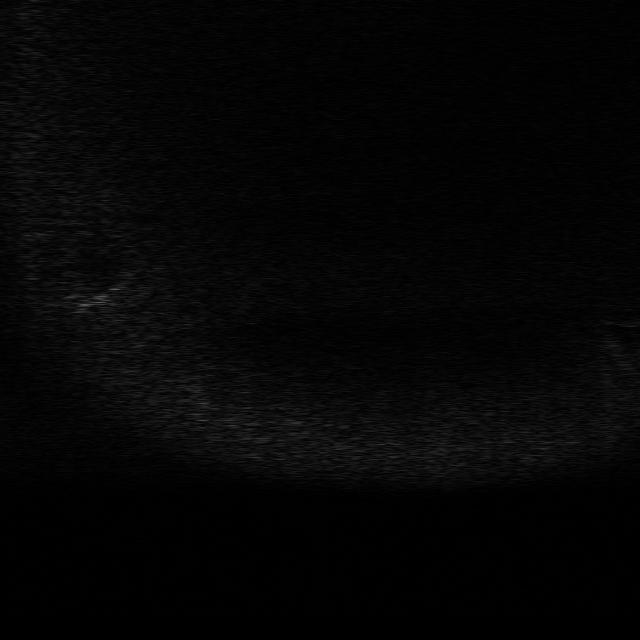plane: (59, 279, 130, 312)
